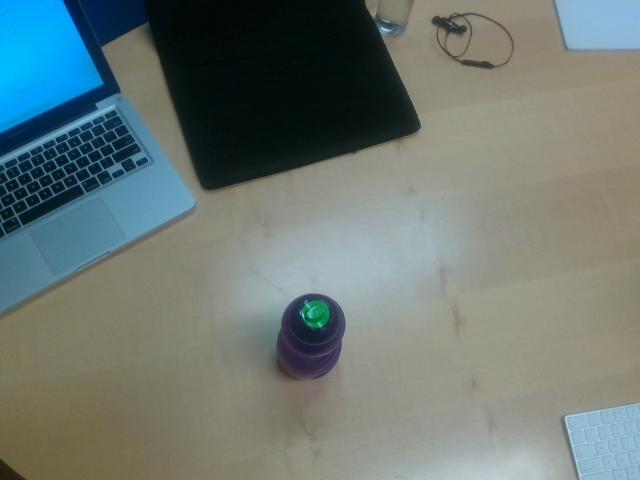bottle: (276, 294, 345, 379)
